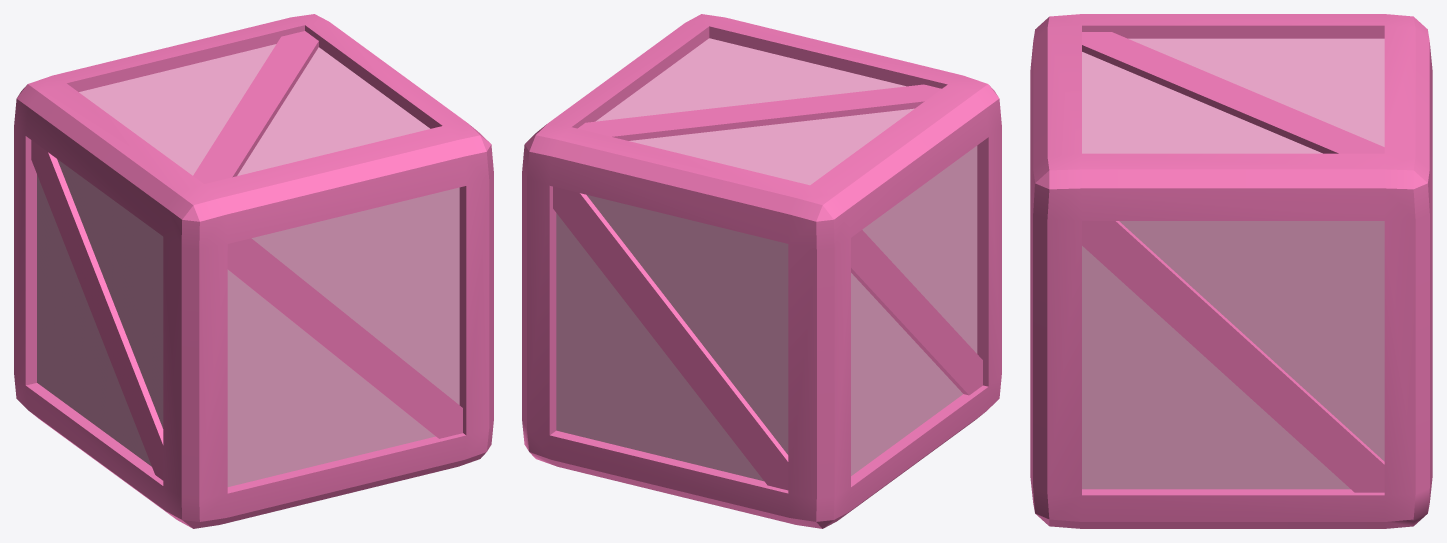
Rendered from CrateReTextured.fbx.
3 views of the same model, side by side, from view 1: azimuth 30°, elevation 25°; view 2: azimuth 150°, elevation 25°; view 3: azimuth 270°, elevation 25° (orthographic). The views are drawn at different scales.
Visible parts, largest first — view 1: pCube1; view 2: pCube1; view 3: pCube1.
Part boxes in pixels (x1=…): pCube1: x1=14, y1=14, x2=493, y2=528; pCube1: x1=522, y1=14, x2=1001, y2=528; pCube1: x1=1030, y1=14, x2=1432, y2=528.
Bounding box in the file's own units: 108 × 108 × 108.
Materials: 1 (1 with a texture image).
